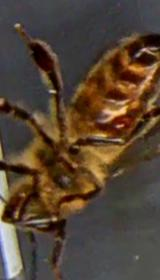varroa_mite: (97, 98, 133, 141)
